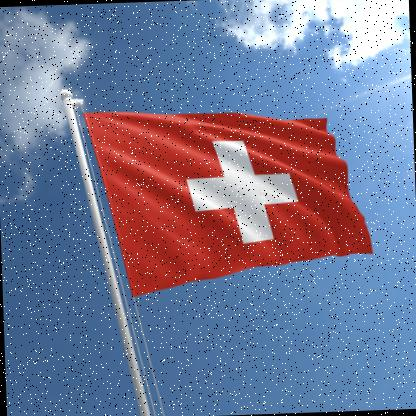ch: (88, 103, 373, 297)
